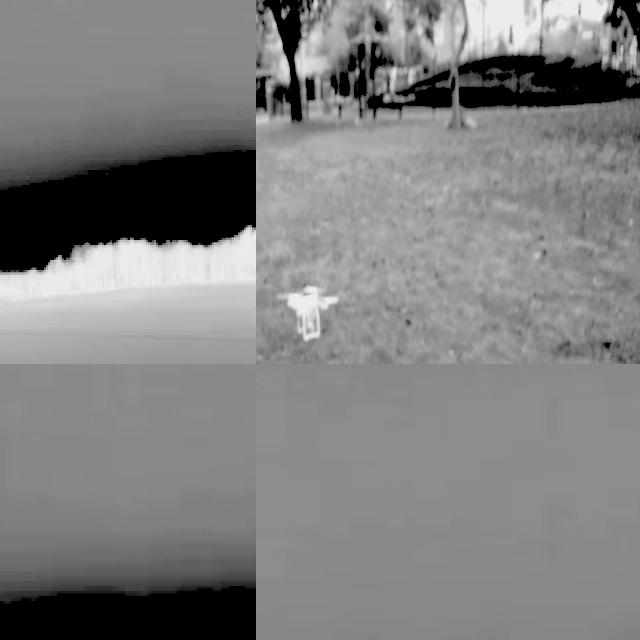drone: (283, 287, 340, 340)
